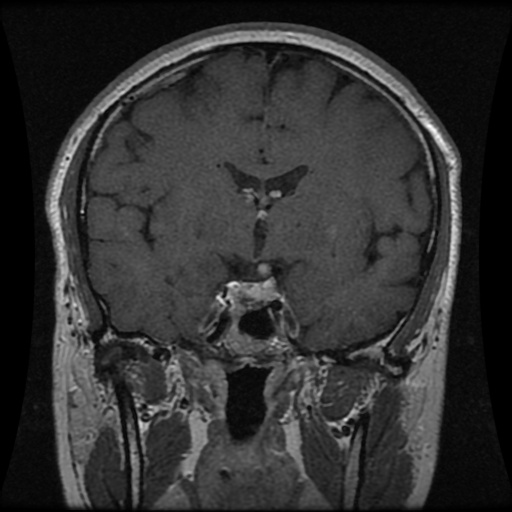pituitary: (226, 278, 279, 309)
